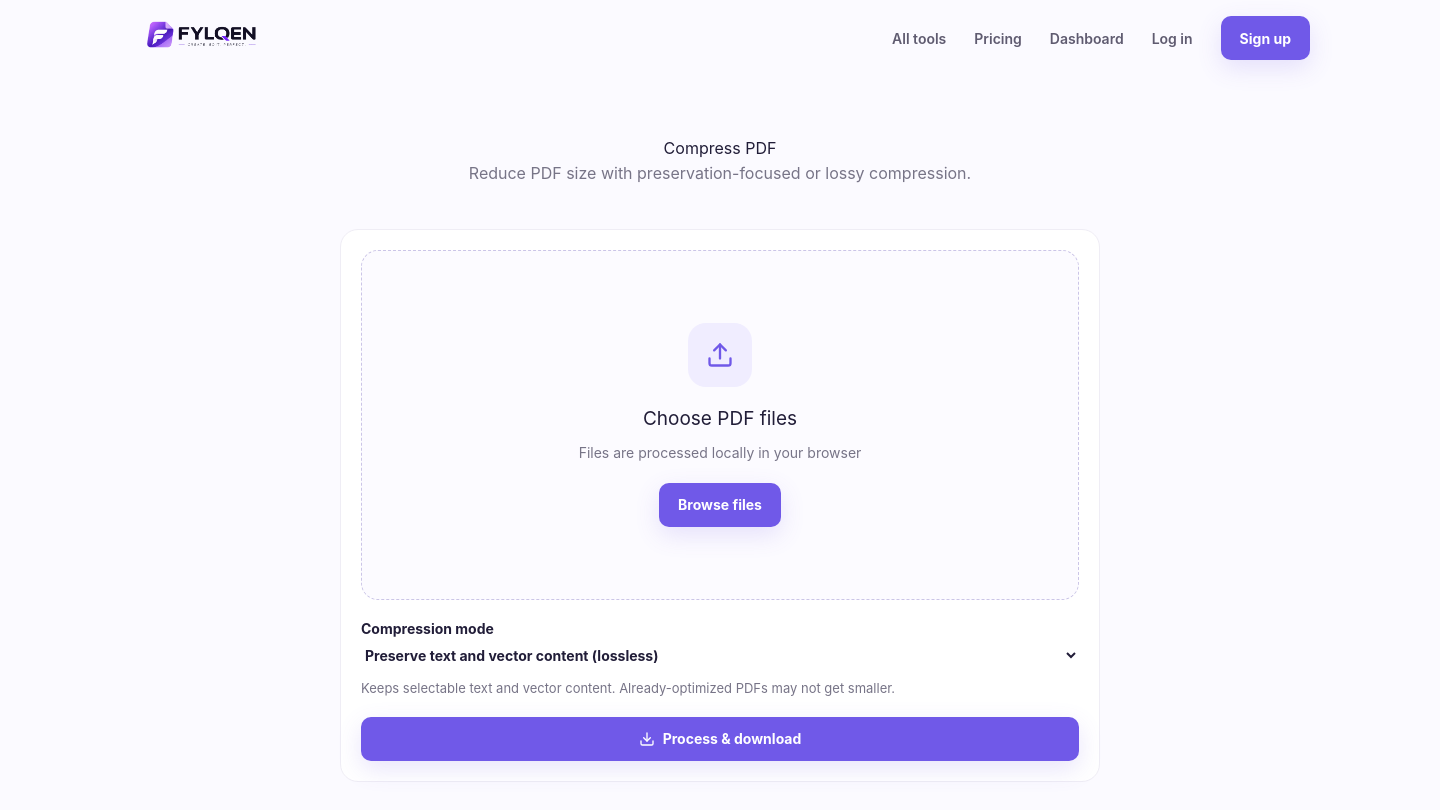
Scenario: Fylqen routes › offers watermark pattern and lossy compression controls
Select "Smaller file (lossy, rasterizes pages)" in the dropdown labelled "Compression mode" at (720, 656), box [361,646,1079,665]
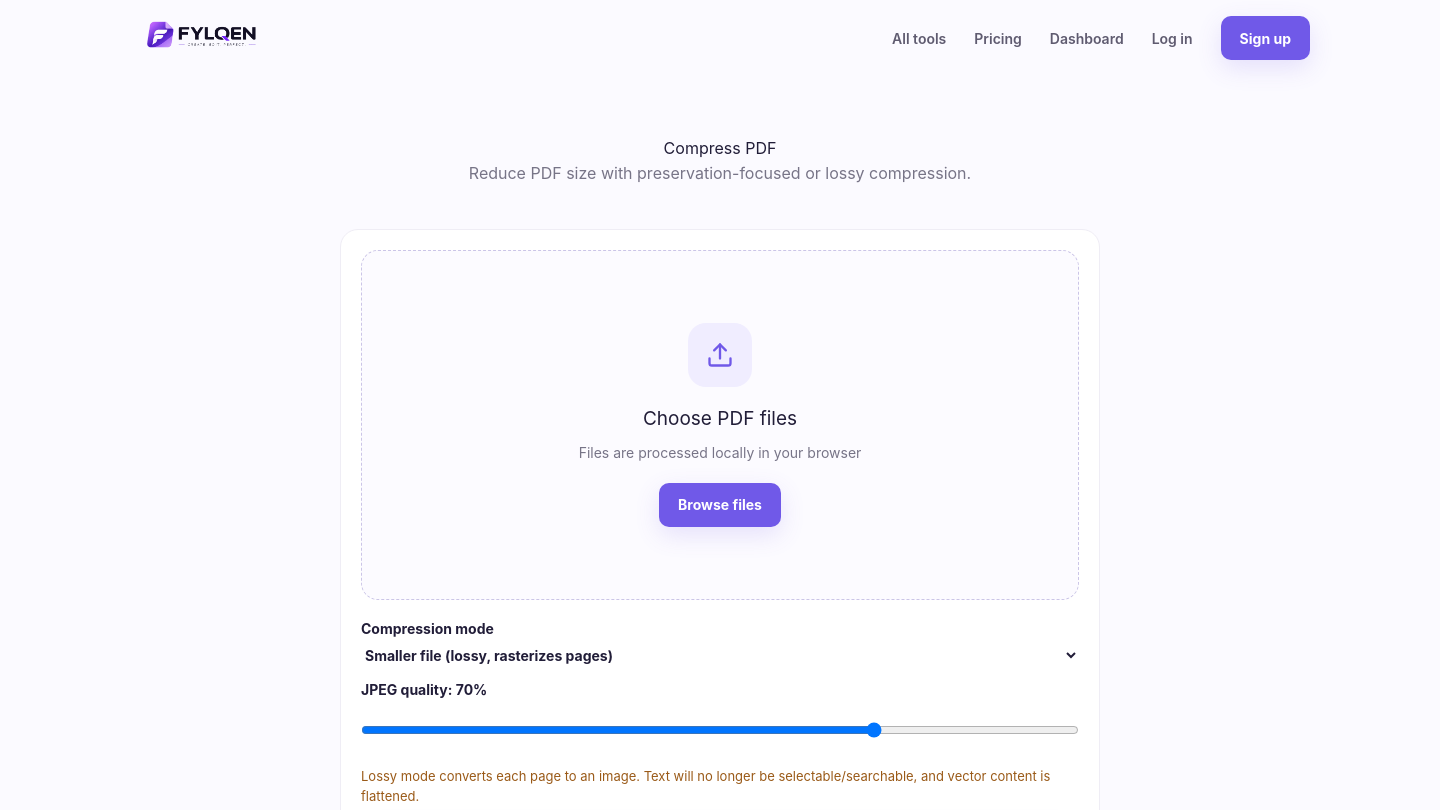
Expected: the text "Text will no longer be selectable/searchable" is shown, [361,768,1050,804]
Expected: the slider named "Compression quality" is shown, [361,707,1079,753]
